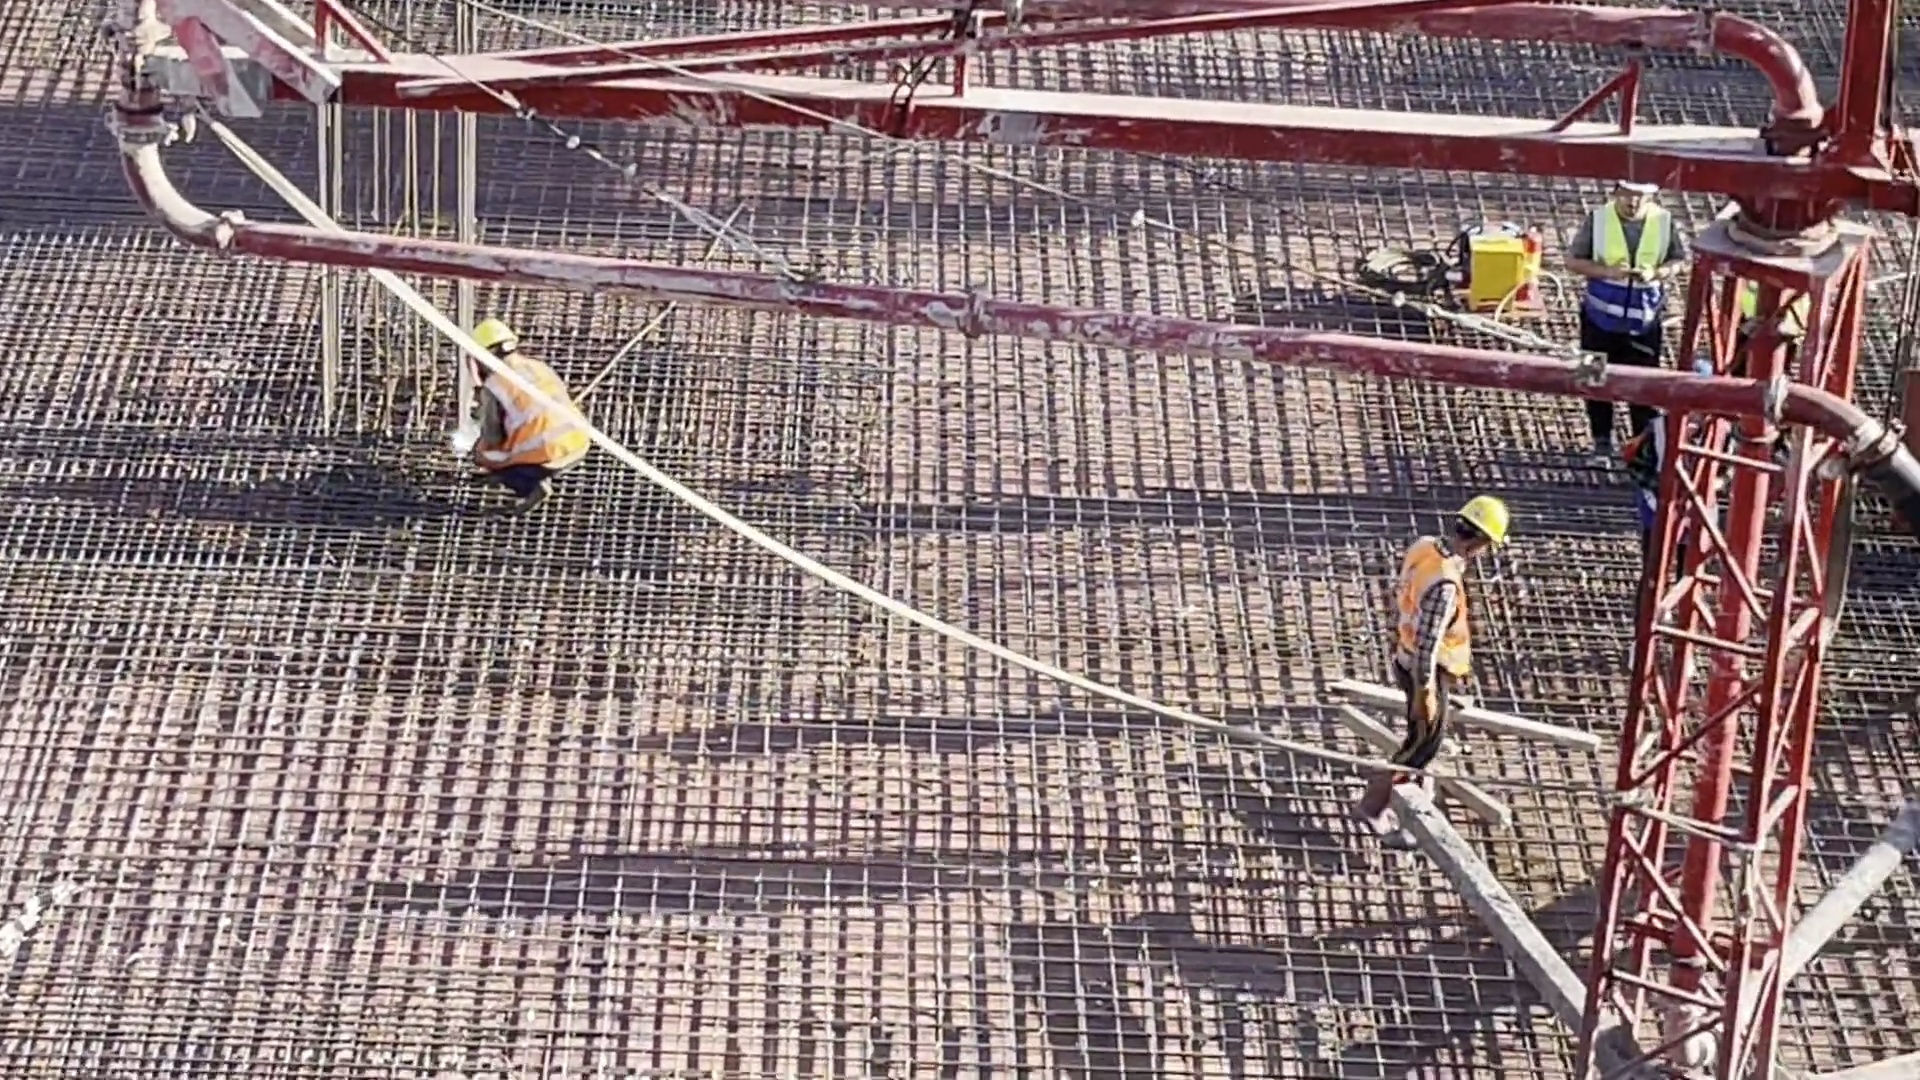helmet: (1460, 500, 1513, 548), (464, 313, 523, 348), (1623, 176, 1659, 204)
person: (1371, 485, 1541, 843), (1573, 167, 1691, 519), (448, 319, 592, 505)
vest: (469, 360, 579, 490), (1391, 541, 1468, 683), (1579, 202, 1660, 322)
